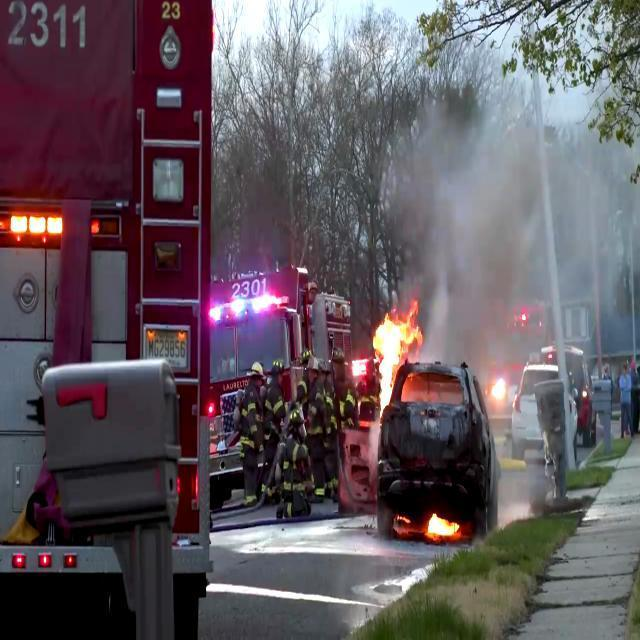Fire: (422, 508, 458, 546)
Smoke: (401, 66, 640, 397), (367, 303, 417, 411)
